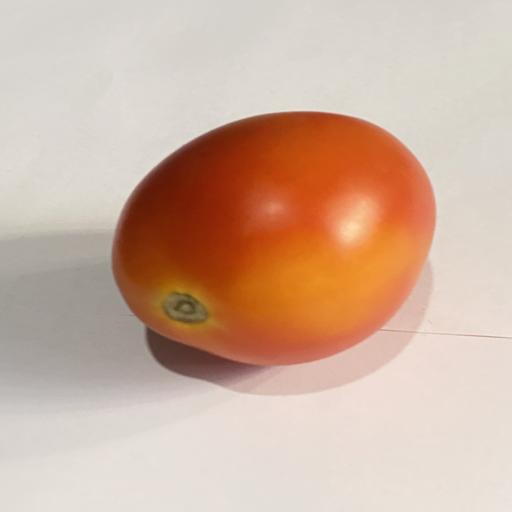ripe: (112, 111, 435, 365)
